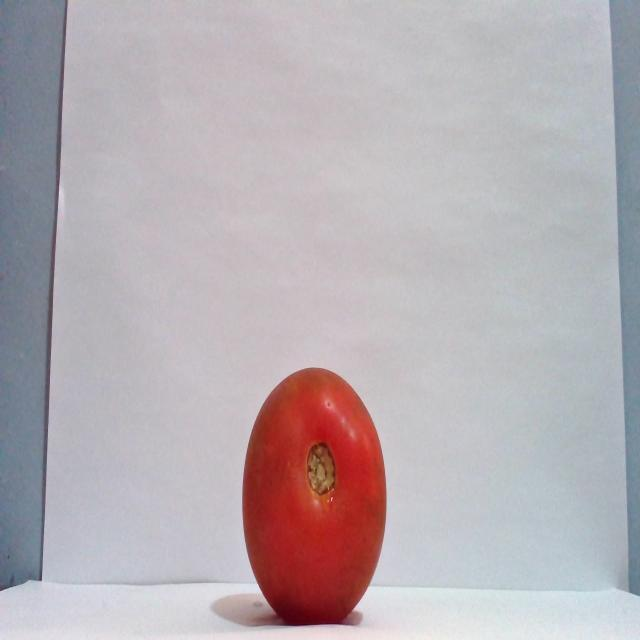Red: (240, 365, 387, 624)
